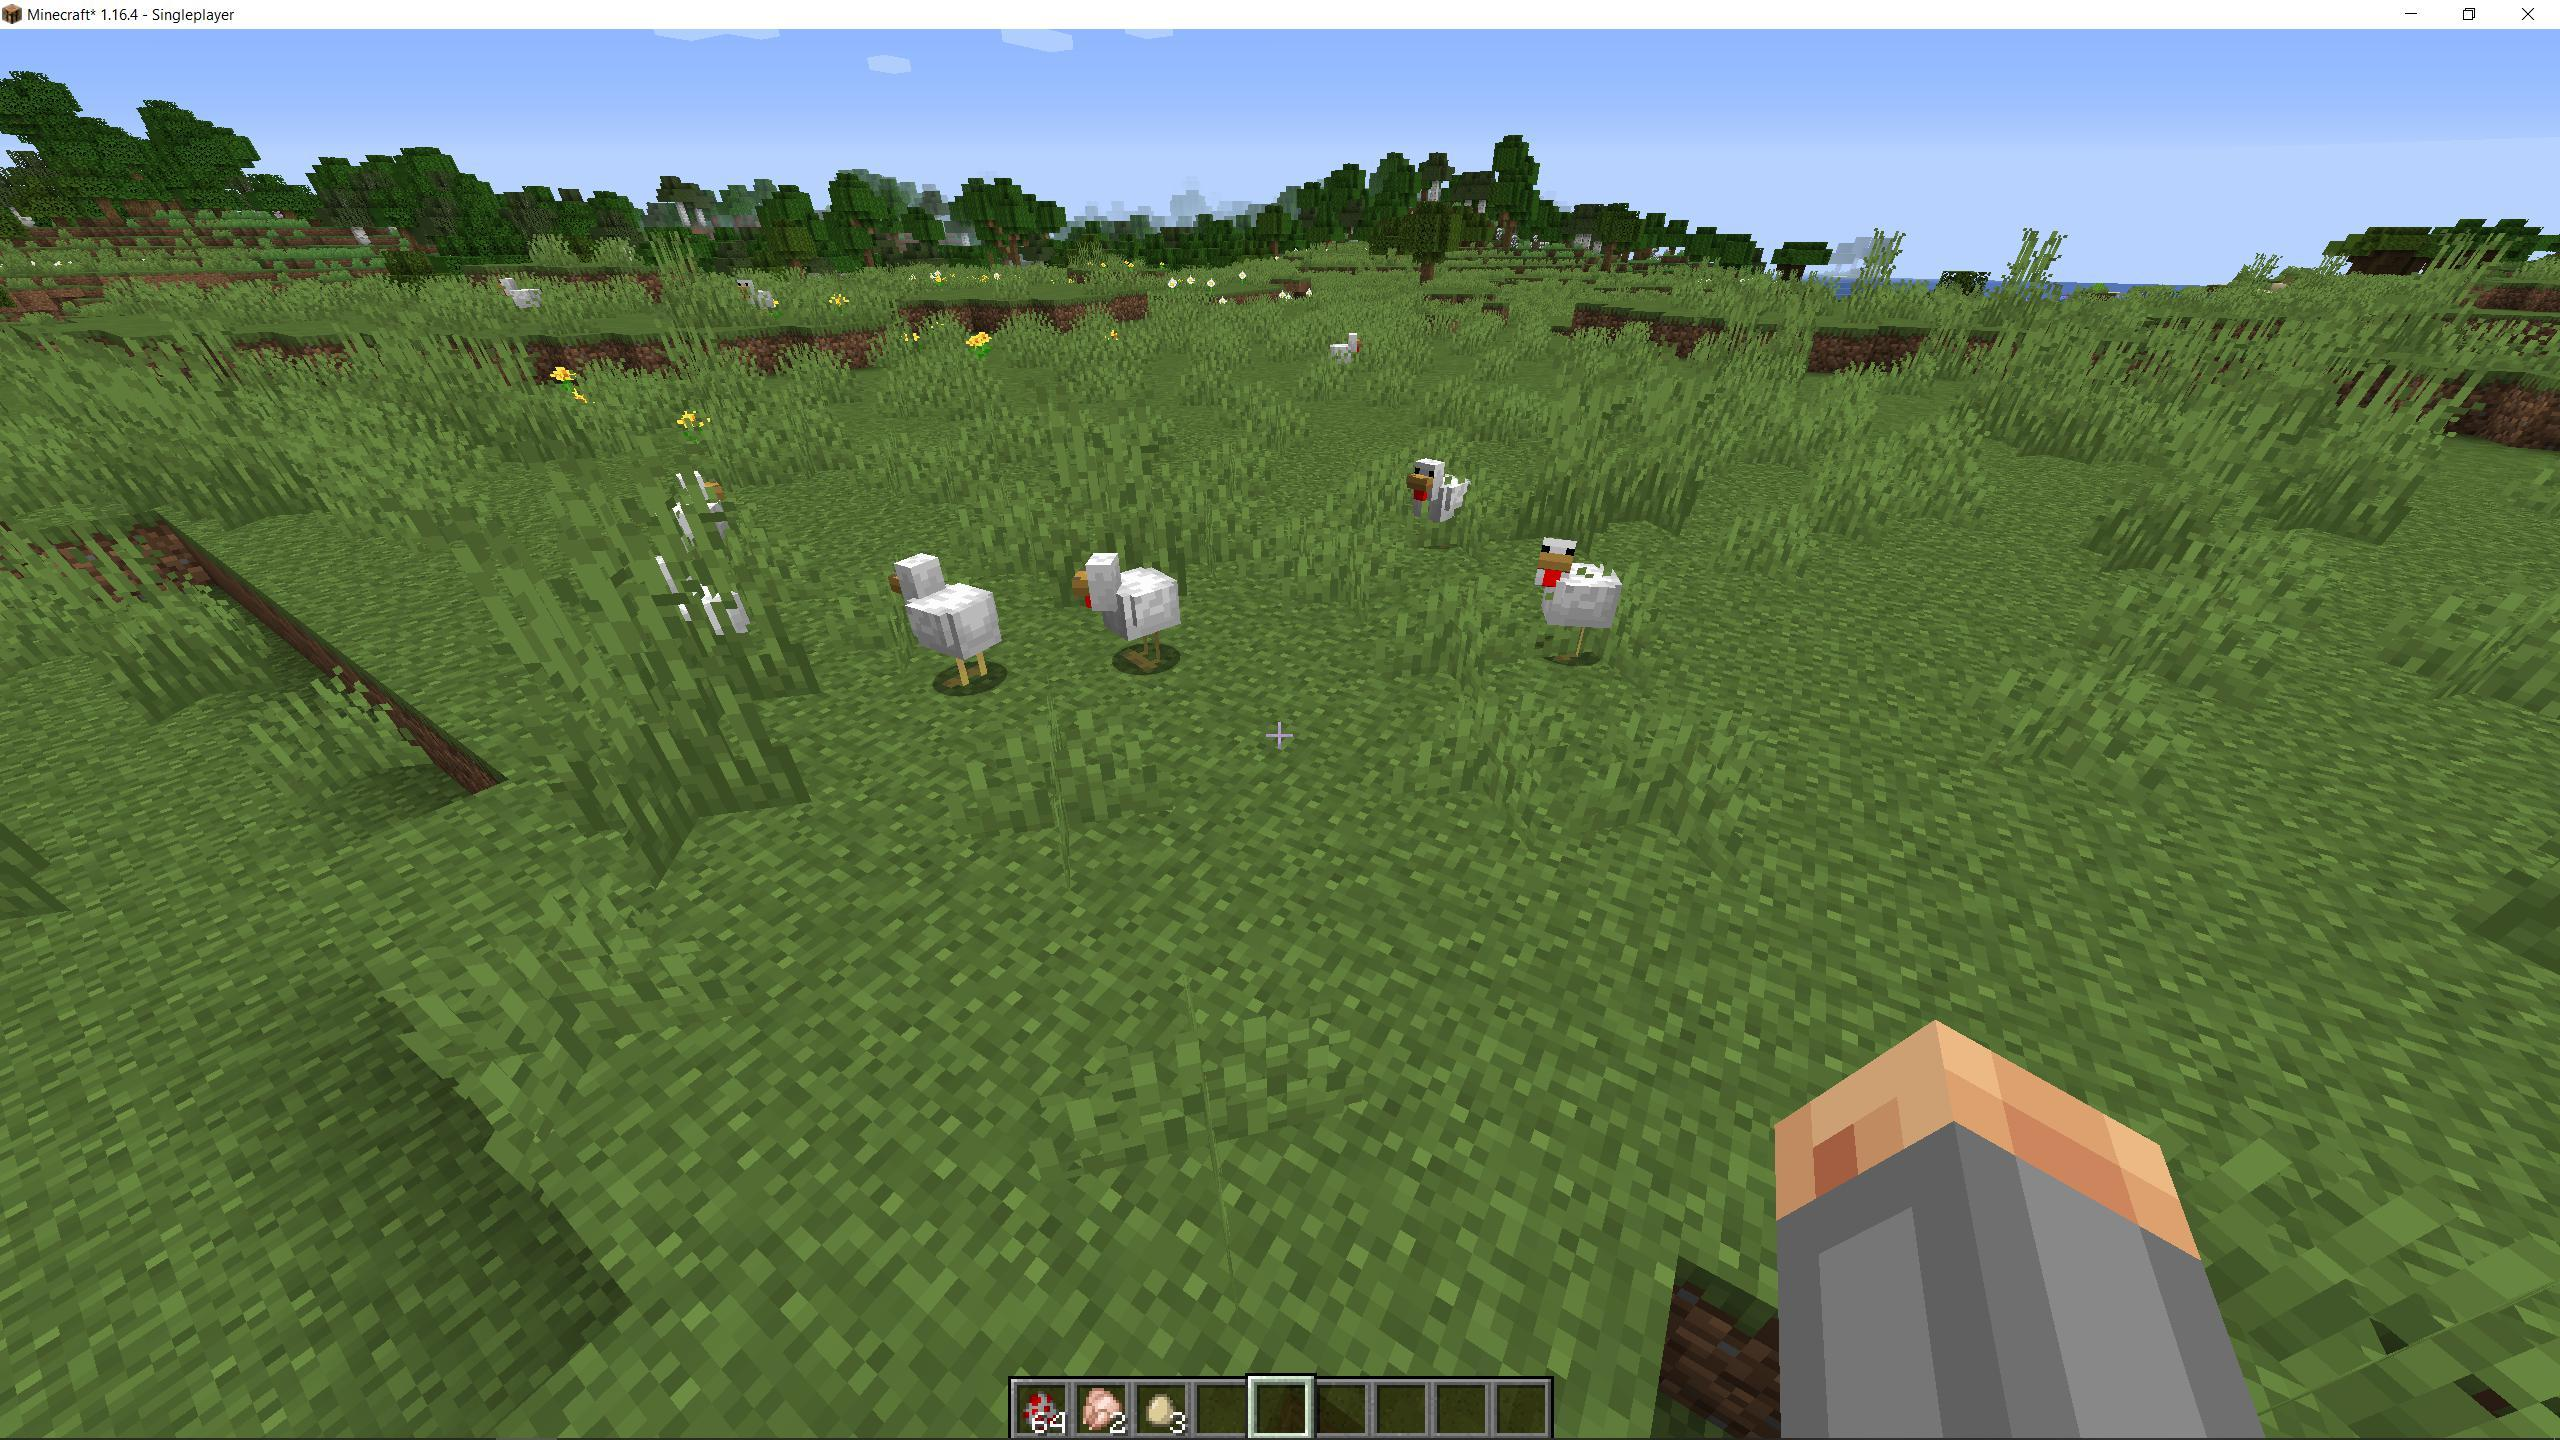chicken: (883, 549, 1020, 696), (1069, 536, 1194, 686), (647, 549, 765, 668), (1519, 535, 1626, 663), (651, 464, 753, 550), (1391, 454, 1475, 547), (480, 269, 561, 336), (1320, 325, 1371, 387), (731, 276, 789, 324)
